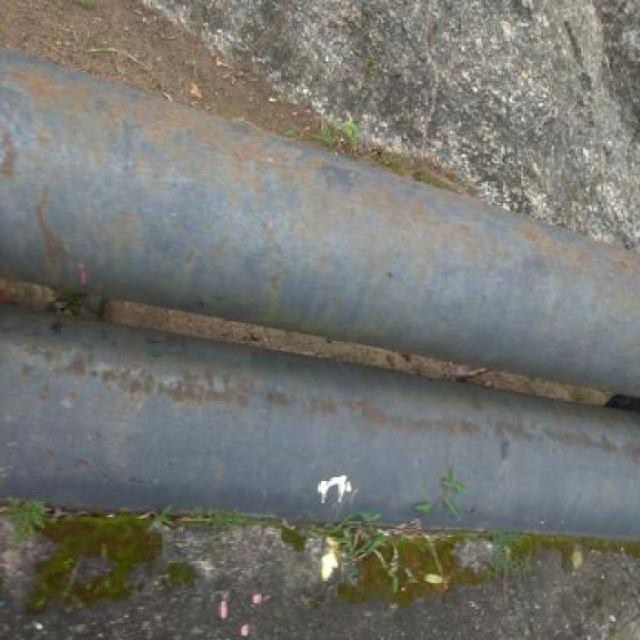gas: (8, 54, 634, 392), (14, 311, 636, 533)
